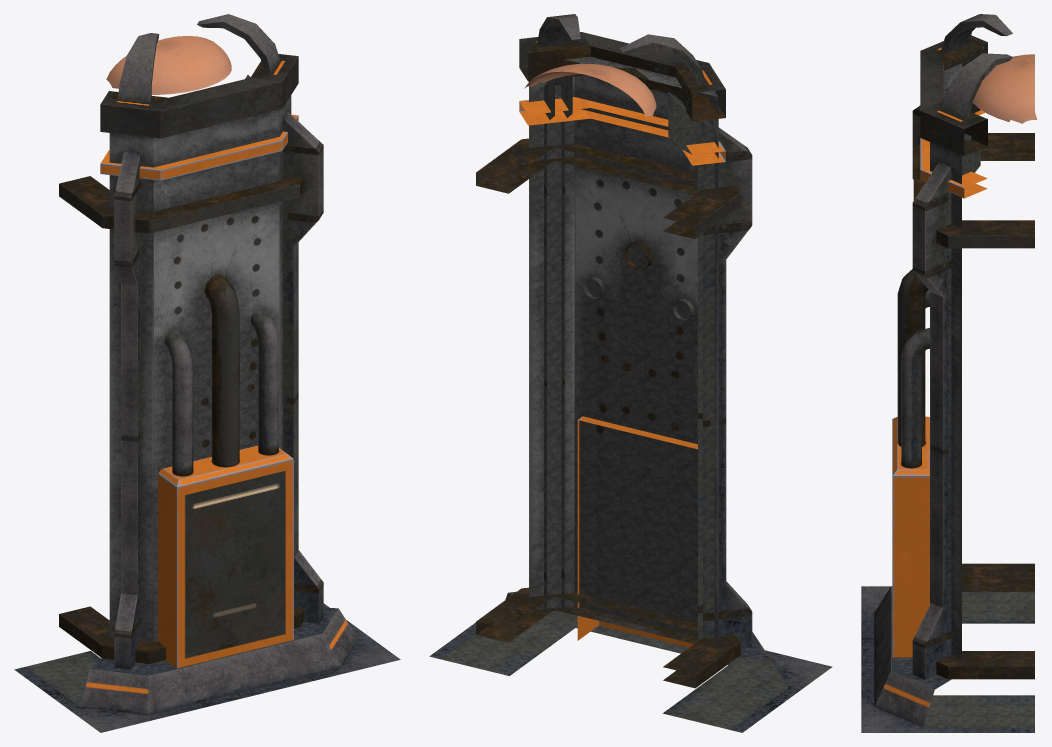
File: stand.glb
3 views of the same model, side by side, from view 1: azimuth 30°, elevation 25°; view 2: azimuth 150°, elevation 25°; view 3: azimuth 270°, elevation 25° (orthographic). The views are drawn at different scales.
Visible parts, largest first — view 1: Object_186; view 2: Object_186; view 3: Object_186.
Part boxes in pixels (x1,y1,x2,y2): Object_186: (14, 14, 400, 732); Object_186: (429, 14, 832, 732); Object_186: (861, 14, 1037, 732).
Size of the model in its own units: 2 by 3.96 by 1.01.
Materials: 1 (1 with a texture image).
